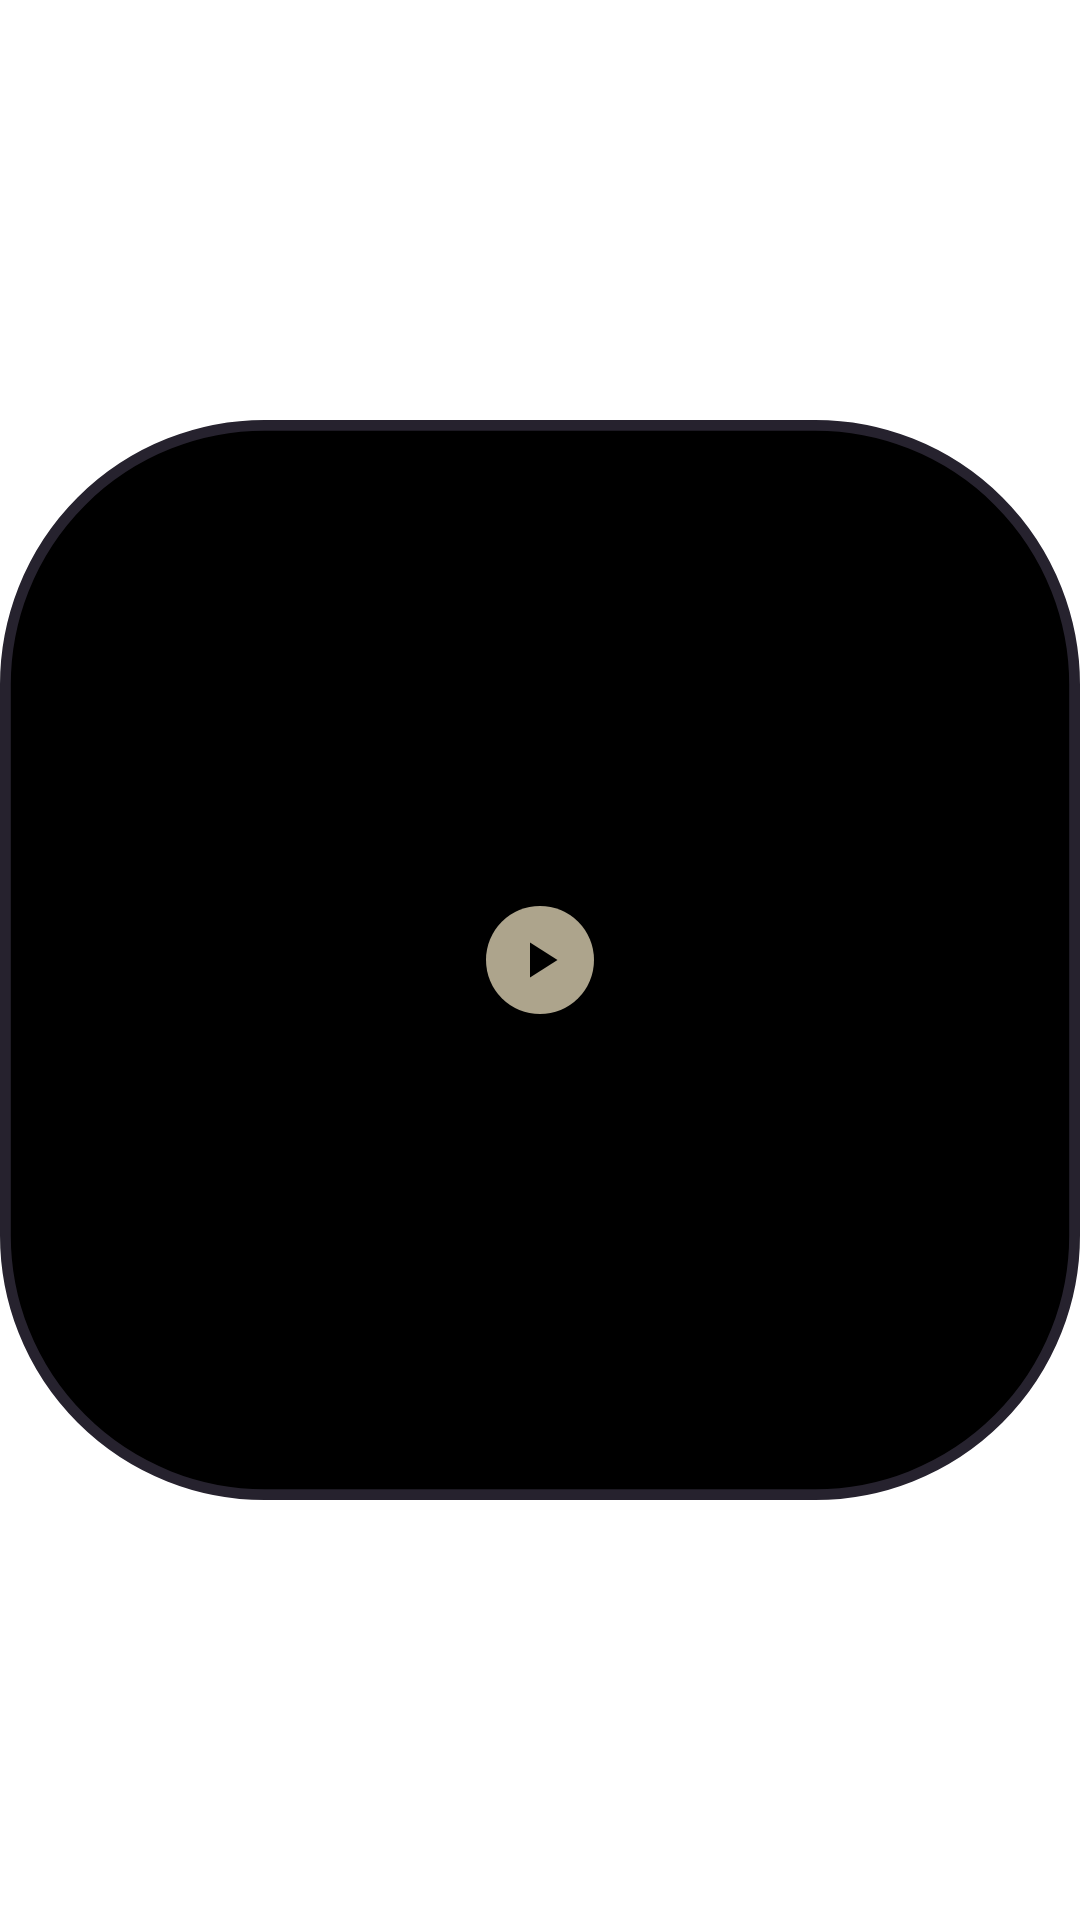

Screen size 1080px×1920px. Icon name, then its center in pixels as (x=x, y=y):
widget play: (x=540, y=960)
